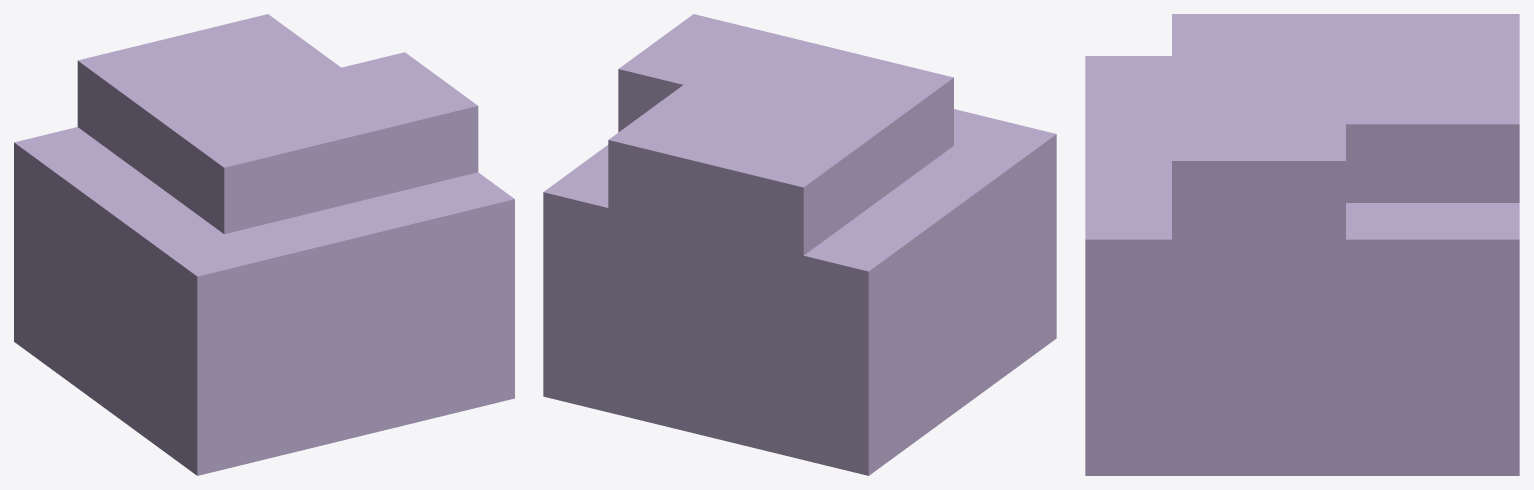
The model's file is Rock2.obj.
3 renders of one model, left to right at view 1: azimuth 30°, elevation 25°; view 2: azimuth 150°, elevation 25°; view 3: azimuth 270°, elevation 25°, orthographic. The views are drawn at different scales.
Size of the model in its own units: 0.5 by 0.4 by 0.5.
